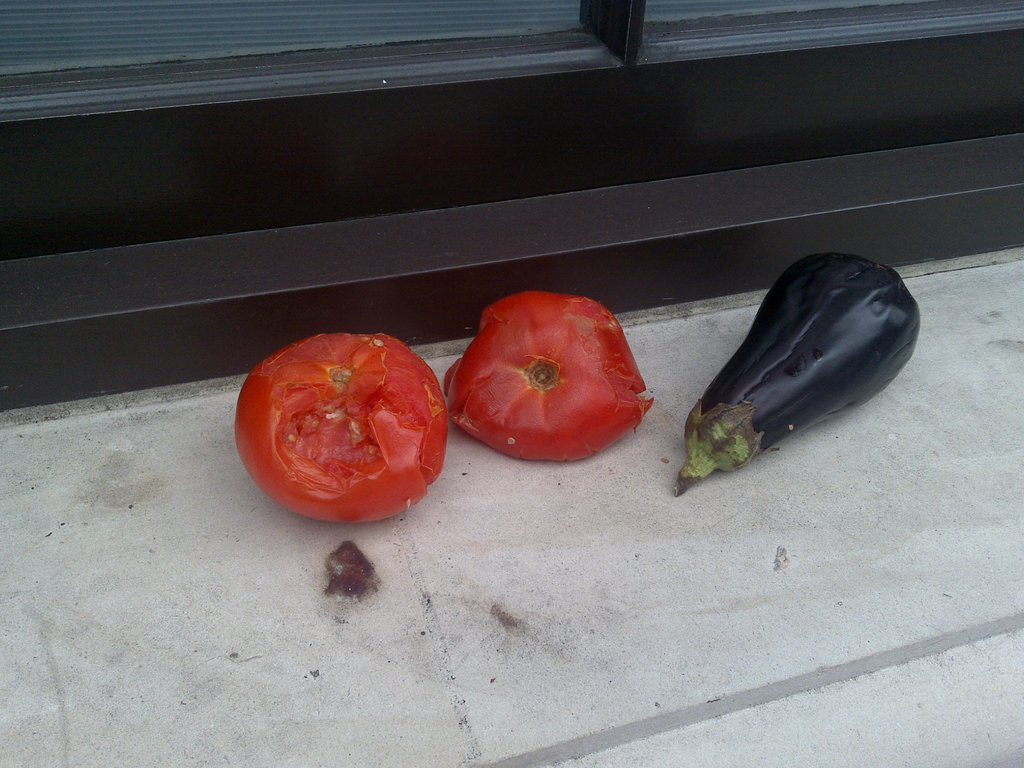Tomato: (220, 313, 465, 522), (442, 292, 662, 458)
